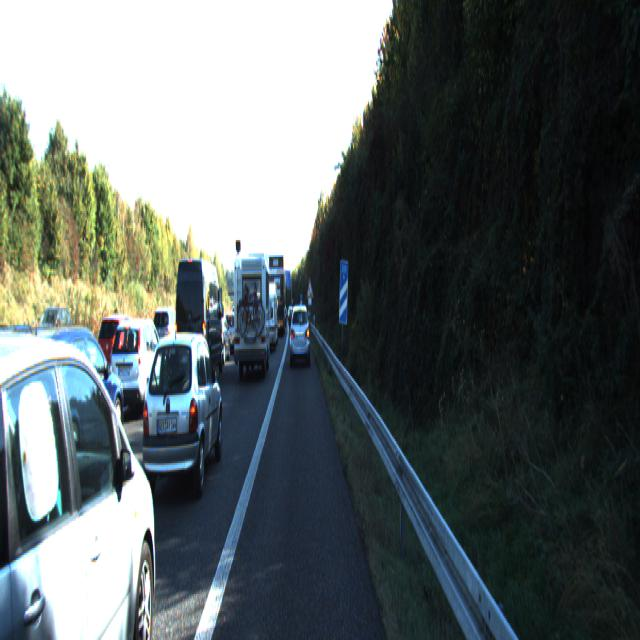Car: (0, 318, 164, 638), (0, 323, 127, 503), (139, 327, 224, 505), (0, 321, 66, 445), (173, 255, 223, 388), (107, 314, 169, 420), (233, 253, 271, 379), (92, 316, 146, 394), (151, 306, 183, 366), (256, 282, 278, 355), (204, 309, 231, 365), (268, 253, 285, 334), (289, 302, 310, 365)
